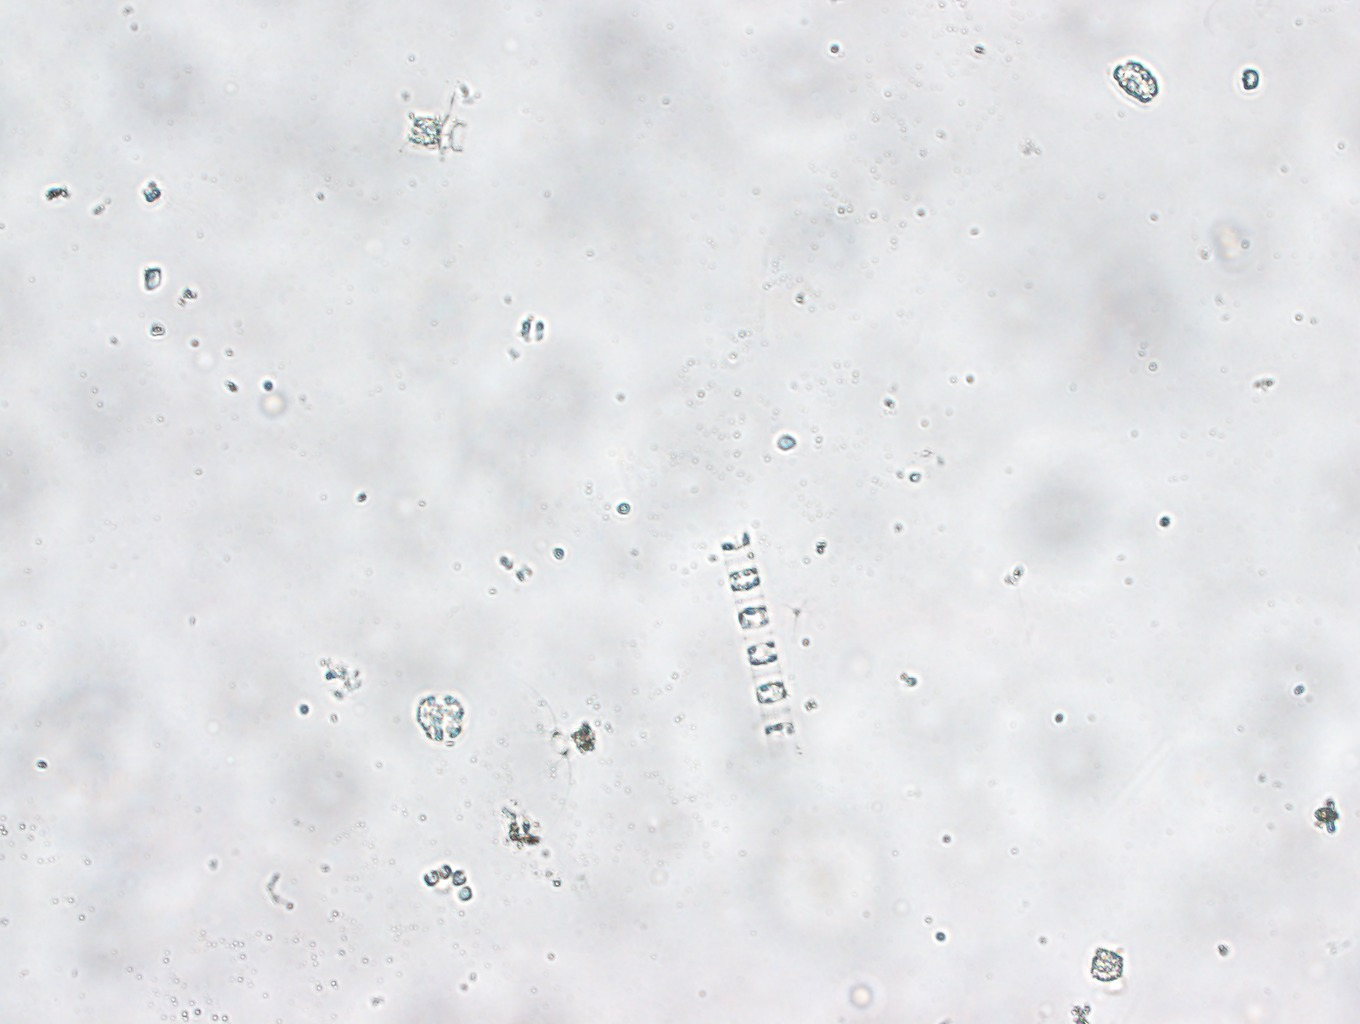skeletonema: (706, 527, 808, 765)
